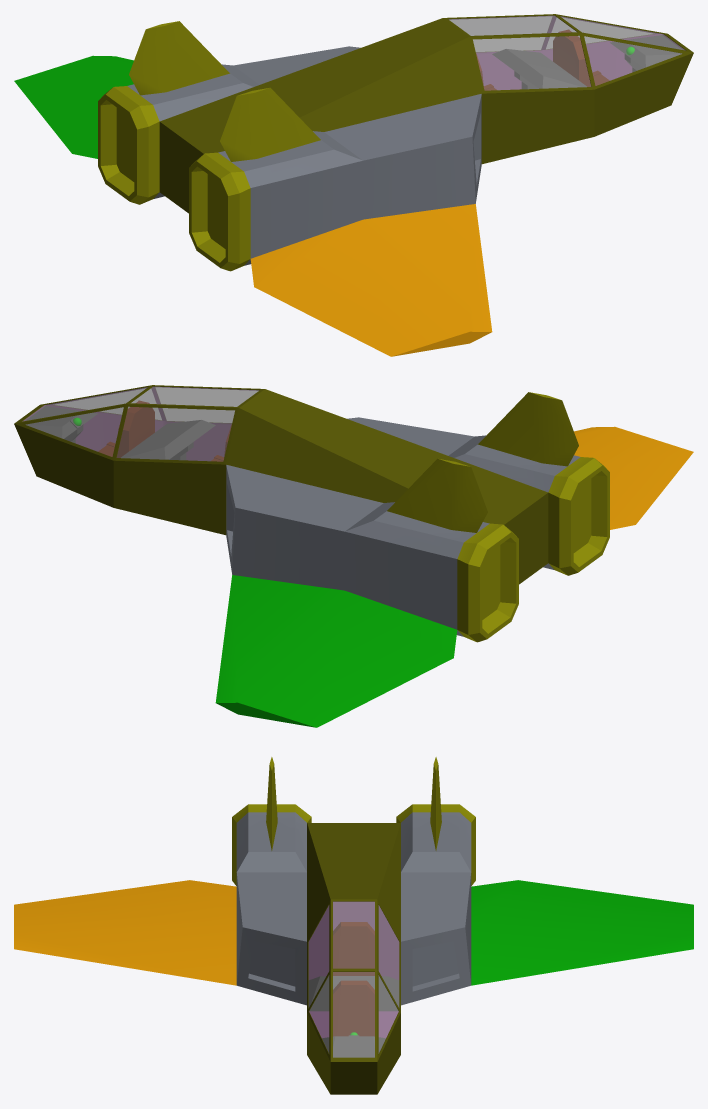
File: Ship Interior.fbx
The picture shows the model from 3 angles, top to bottom: view 1: azimuth 30°, elevation 25°; view 2: azimuth 150°, elevation 25°; view 3: azimuth 270°, elevation 25°; orthographic projection. The views are drawn at different scales.
Parts seen in each view (by area): view 1: Ship_First_Person, Window, Interior1, Rear_Panel, Front_Chair, Front_Panel1; view 2: Ship_First_Person, Window, Interior1, Rear_Panel, Front_Chair, Front_Panel1; view 3: Ship_First_Person, Window, Interior1, Front_Chair, Rear_Chair, Rear_Panel, Front_Panel1.
Boxes of the visible parts, bbox=[...] form: Ship_First_Person: bbox=[14, 14, 693, 356]; Window: bbox=[449, 15, 685, 90]; Interior1: bbox=[449, 15, 685, 90]; Rear_Panel: bbox=[492, 49, 586, 89]; Front_Chair: bbox=[553, 29, 609, 86]; Front_Panel1: bbox=[610, 35, 682, 71]; Ship_First_Person: bbox=[14, 385, 693, 727]; Window: bbox=[22, 386, 258, 461]; Interior1: bbox=[22, 386, 258, 461]; Rear_Panel: bbox=[121, 420, 215, 460]; Front_Chair: bbox=[98, 400, 154, 457]; Front_Panel1: bbox=[25, 406, 97, 442]; Ship_First_Person: bbox=[14, 757, 693, 1094]; Window: bbox=[308, 901, 399, 1057]; Interior1: bbox=[308, 901, 399, 1037]; Front_Chair: bbox=[333, 980, 374, 1036]; Rear_Chair: bbox=[333, 922, 374, 975]; Rear_Panel: bbox=[308, 976, 399, 1011]; Front_Panel1: bbox=[322, 1035, 385, 1057].
Bounding box in the file's own units: 11.5 × 3.5 × 14.5.
